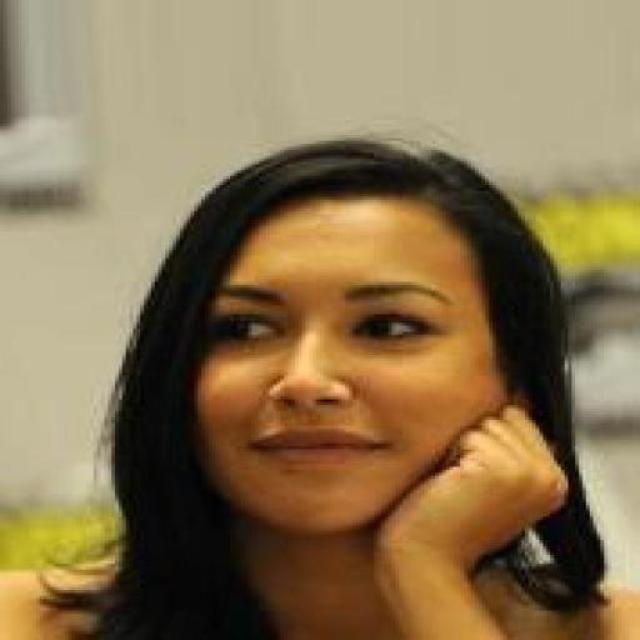bareface: (158, 148, 508, 542)
